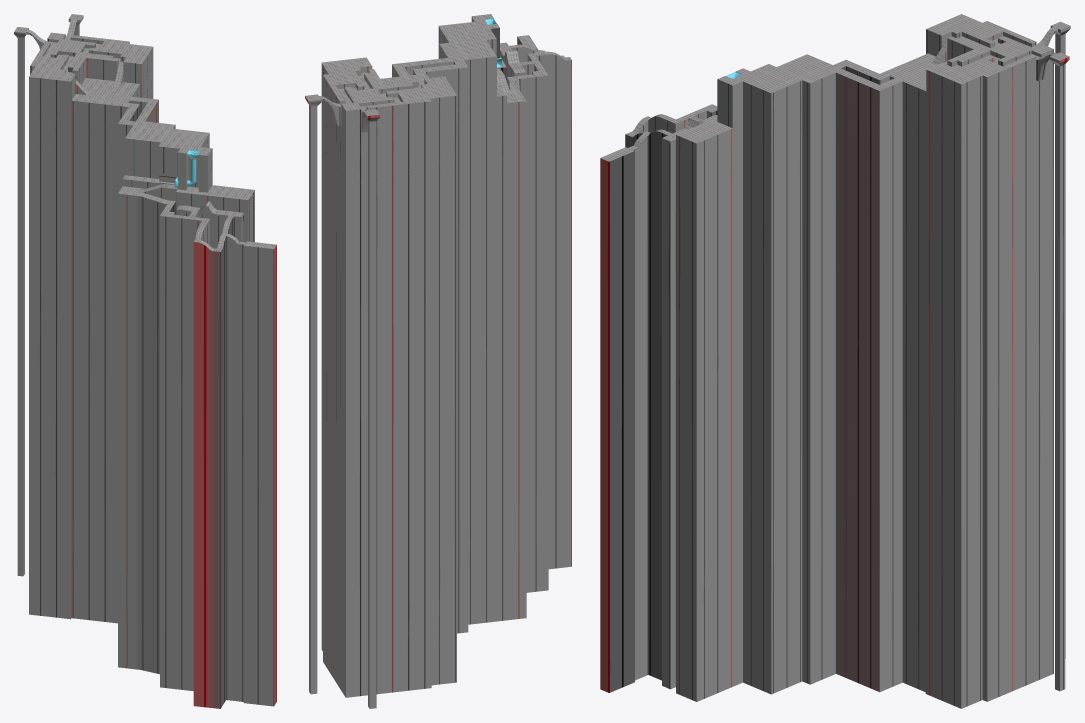
The model's file is level_0.glb.
The picture shows the model from 3 angles, left to right: view 1: azimuth 30°, elevation 25°; view 2: azimuth 150°, elevation 25°; view 3: azimuth 270°, elevation 25°; orthographic projection. The views are drawn at different scales.
Parts seen in each view (by area): view 1: marble_level_0-col; view 2: marble_level_0-col; view 3: marble_level_0-col.
Boxes of the visible parts, x1,y1,x2,y2 form: marble_level_0-col: [14, 14, 276, 708]; marble_level_0-col: [305, 14, 571, 708]; marble_level_0-col: [600, 14, 1070, 708].
Size of what is drawn, in the model's own units: 1.79 by 7.48 by 5.04.
Materials: 4 (3 with a texture image).
